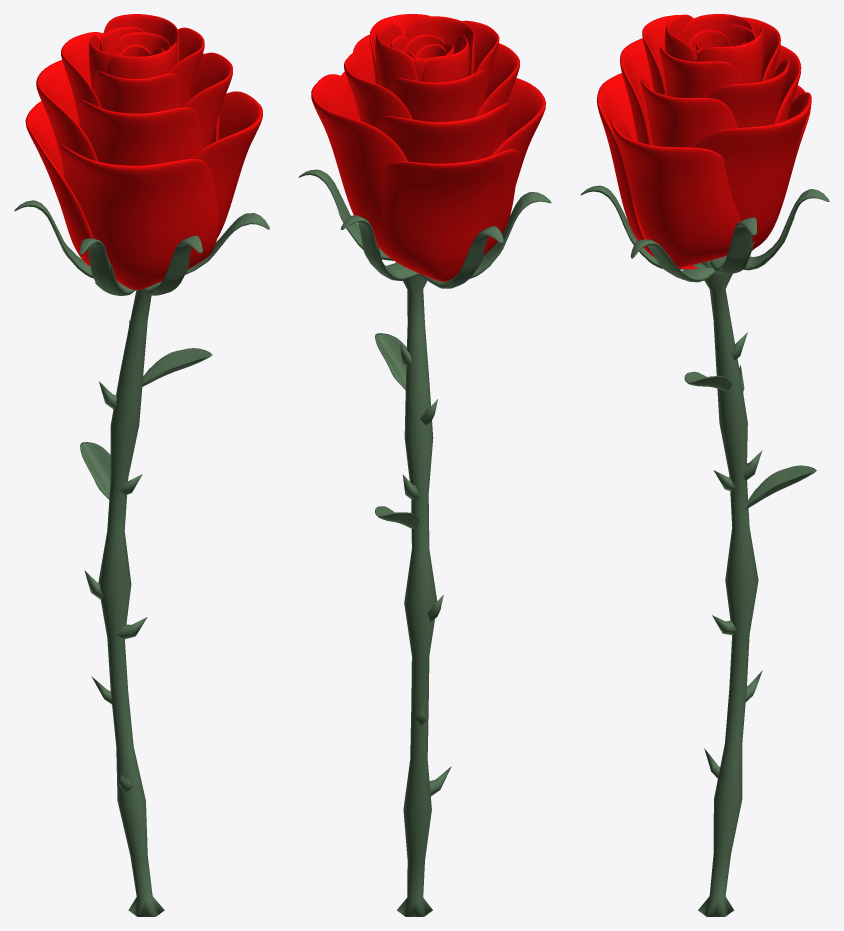
File: Mesh_Rose_1.fbx
3 renders of one model, left to right at view 1: azimuth 30°, elevation 25°; view 2: azimuth 150°, elevation 25°; view 3: azimuth 270°, elevation 25°, orthographic.
Visible parts, largest first — view 1: Rose; view 2: Rose; view 3: Rose.
Part boxes in pixels (x1,y1,x2,y2): Rose: [14, 14, 269, 916]; Rose: [298, 14, 551, 916]; Rose: [580, 14, 829, 916].
Bounding box in the file's own units: 40.03 × 38.37 × 156.
